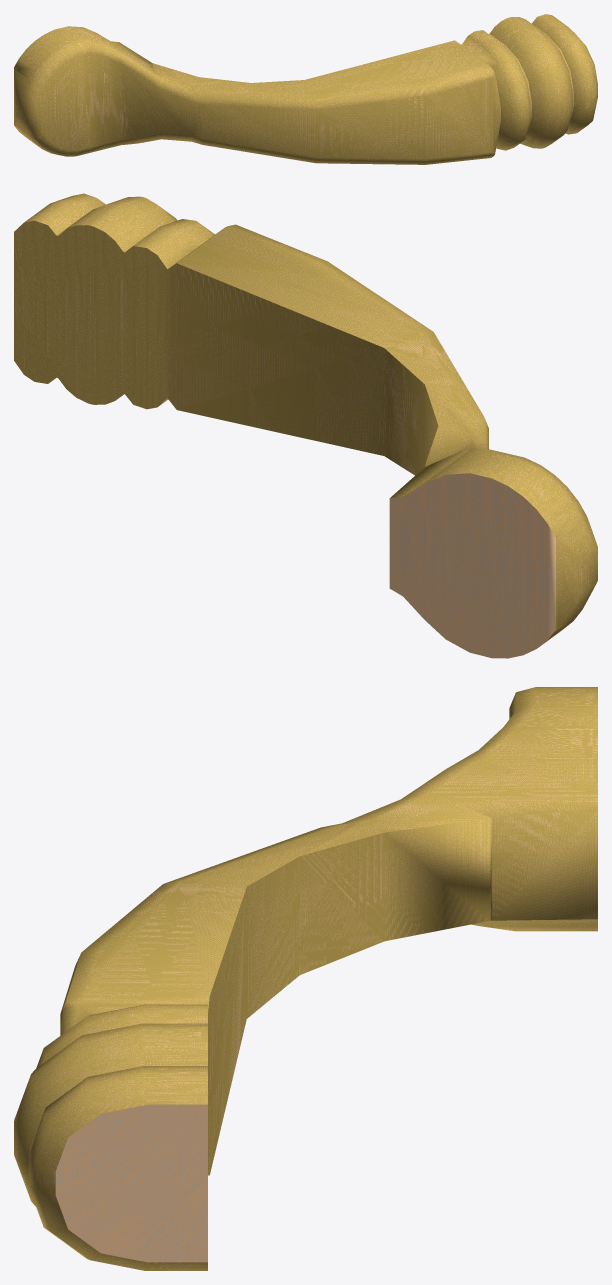
Rendered from original-75.obj.
The picture shows the model from 3 angles, top to bottom: view 1: azimuth 30°, elevation 25°; view 2: azimuth 150°, elevation 25°; view 3: azimuth 270°, elevation 25°; orthographic projection. The views are drawn at different scales.
Parts seen in each view (by area): view 1: mesh42/mesh42-geometry#mesh42-geometry; view 2: mesh42/mesh42-geometry#mesh42-geometry; view 3: mesh42/mesh42-geometry#mesh42-geometry.
Boxes of the visible parts, x1,y1,x2,y2 form: mesh42/mesh42-geometry#mesh42-geometry: (14,14,597,164); mesh42/mesh42-geometry#mesh42-geometry: (14,193,597,658); mesh42/mesh42-geometry#mesh42-geometry: (14,687,597,1270).
Size of the model in its own units: 0.092 by 0.0222 by 0.0534.
